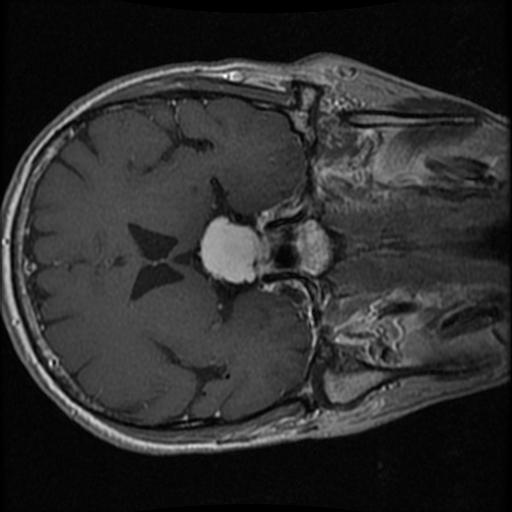meningioma: (201, 215, 262, 283)
